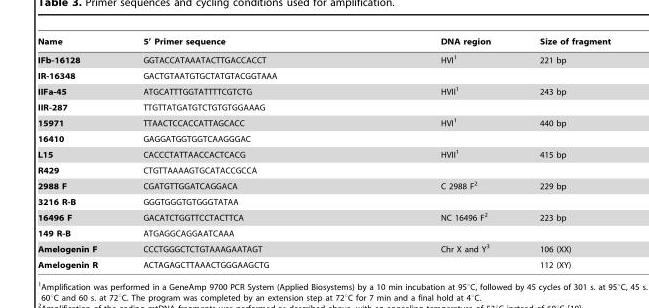table: (37, 36, 610, 269)
table column: (119, 36, 358, 269), (358, 36, 514, 269), (514, 36, 610, 269), (37, 36, 119, 269)
table column header: (37, 36, 610, 49)
table row: (37, 49, 610, 67), (37, 82, 610, 99), (37, 145, 610, 162), (37, 208, 610, 225), (37, 114, 610, 130), (37, 177, 610, 193), (37, 240, 610, 256), (37, 67, 610, 82), (37, 99, 610, 114), (37, 130, 610, 145), (37, 162, 610, 177), (37, 193, 610, 208), (37, 225, 610, 240), (37, 36, 610, 49), (37, 256, 610, 269)
